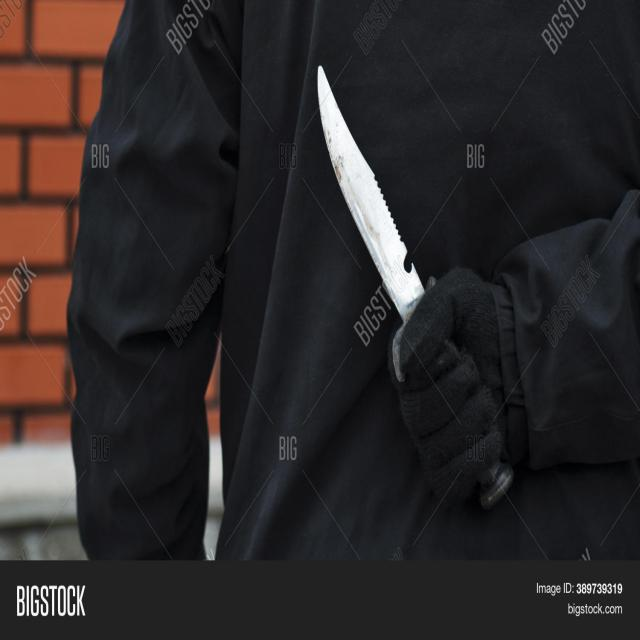knife: (305, 62, 518, 512)
